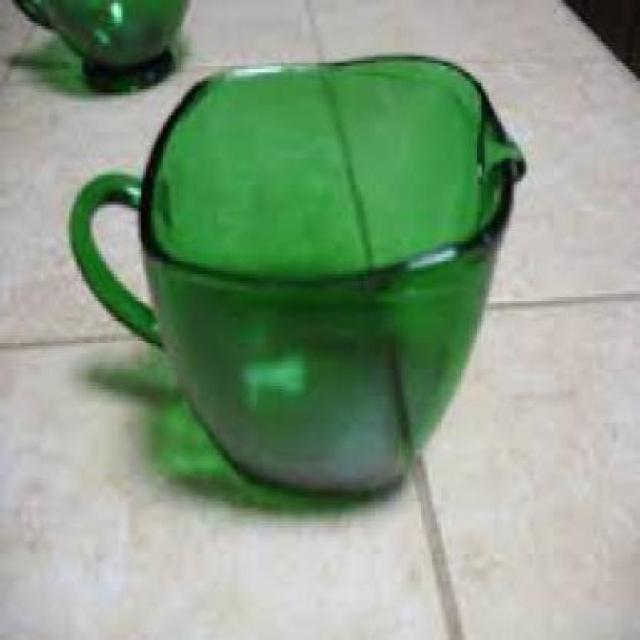kaca: (65, 49, 523, 498), (12, 0, 185, 89)
